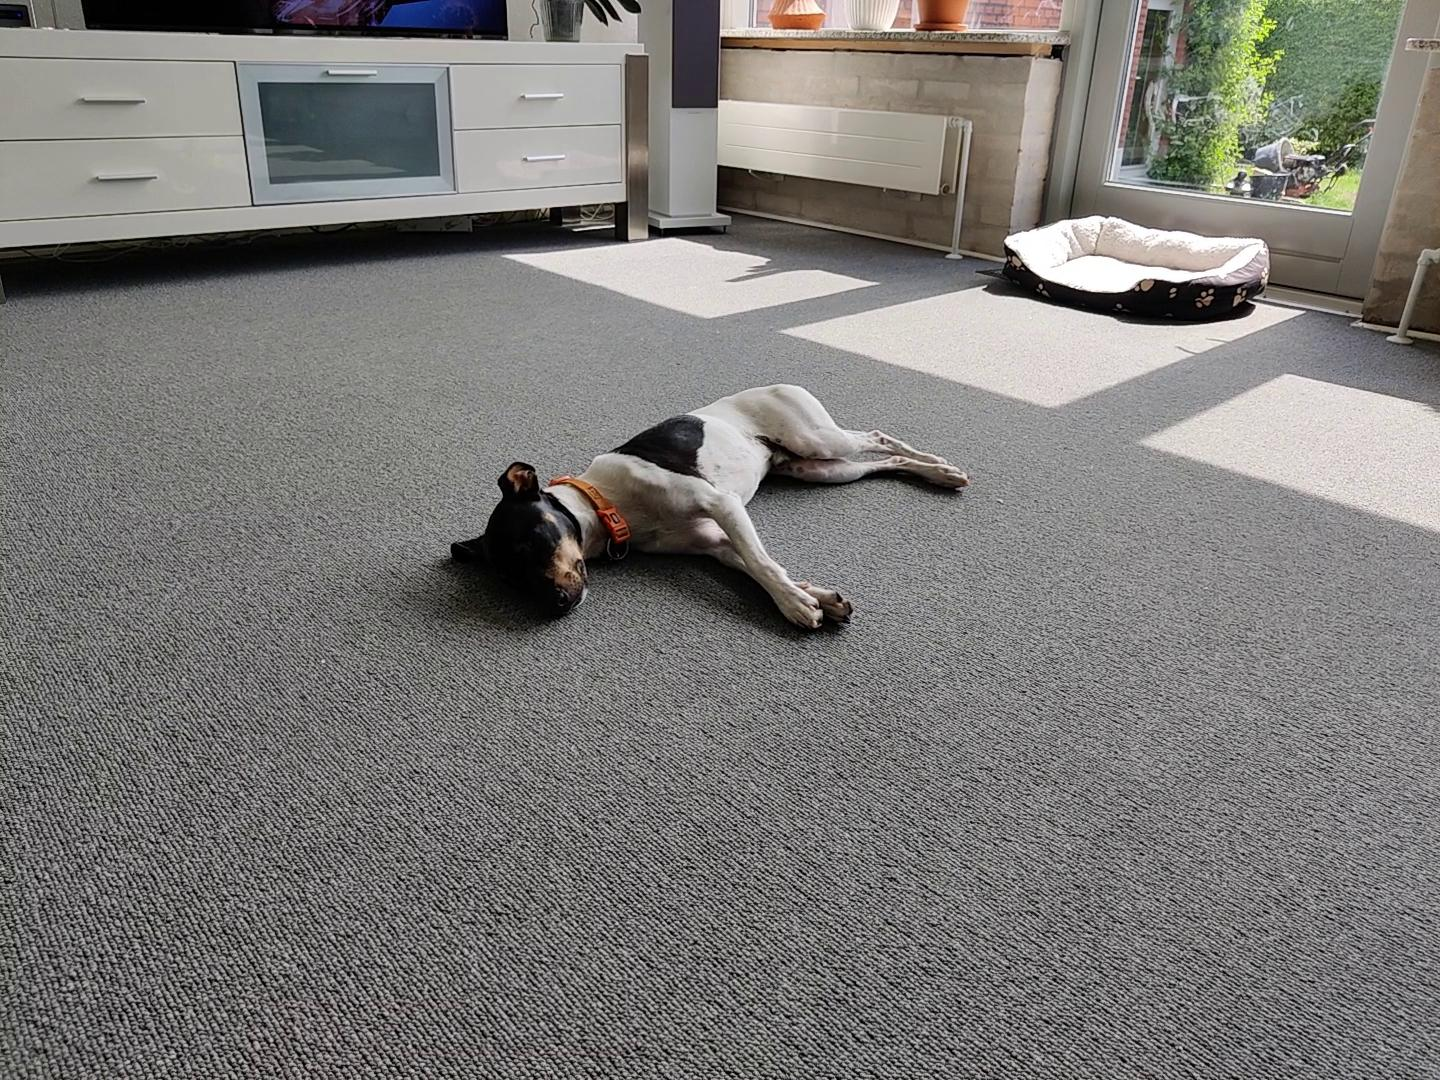Dog: (440, 381, 973, 638)
